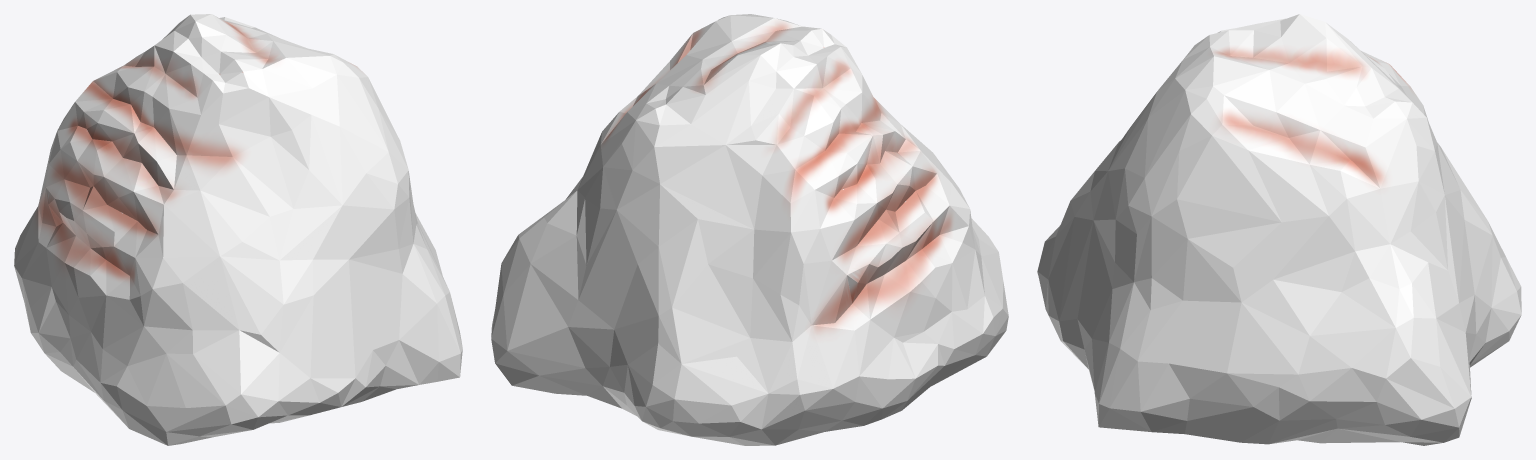
The model's file is ResIron1.fbx.
3 views of the same model, side by side, from view 1: azimuth 30°, elevation 25°; view 2: azimuth 150°, elevation 25°; view 3: azimuth 270°, elevation 25° (orthographic).
Visible parts, largest first — view 1: Cube; view 2: Cube; view 3: Cube.
Boxes of the visible parts, left/top/right/bottom form: Cube: left=14, top=14, right=462, bottom=445; Cube: left=491, top=14, right=1008, bottom=445; Cube: left=1037, top=14, right=1521, bottom=445.
Bounding box in the file's own units: 523 × 440 × 570.
